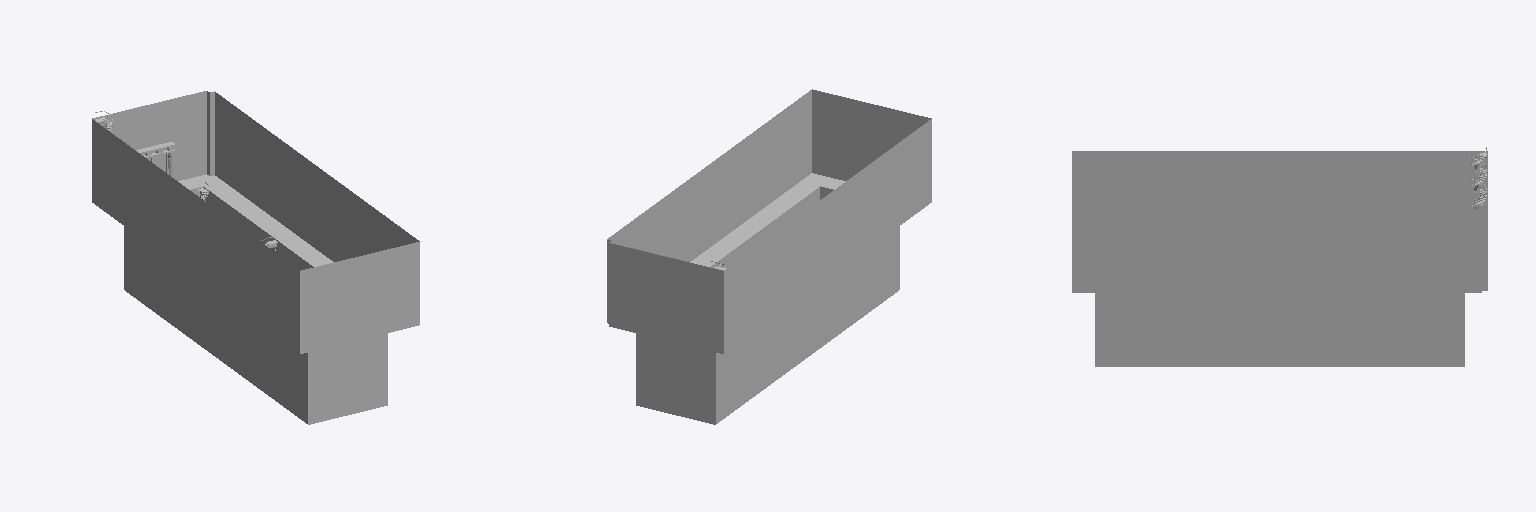
3 renders of one model, left to right at view 1: azimuth 30°, elevation 25°; view 2: azimuth 150°, elevation 25°; view 3: azimuth 270°, elevation 25°, orthographic.
Visible parts, largest first — view 1: カスタム少女_mesh_カスタム少女; view 2: カスタム少女_mesh_カスタム少女; view 3: カスタム少女_mesh_カスタム少女.
Boxes of the visible parts, box(x1,y1,x2,y2) form: カスタム少女_mesh_カスタム少女: box(92, 91, 419, 424); カスタム少女_mesh_カスタム少女: box(607, 89, 931, 424); カスタム少女_mesh_カスタム少女: box(1072, 147, 1487, 366).
Bounding box in the file's own units: 23.06 × 33.62 × 69.19.